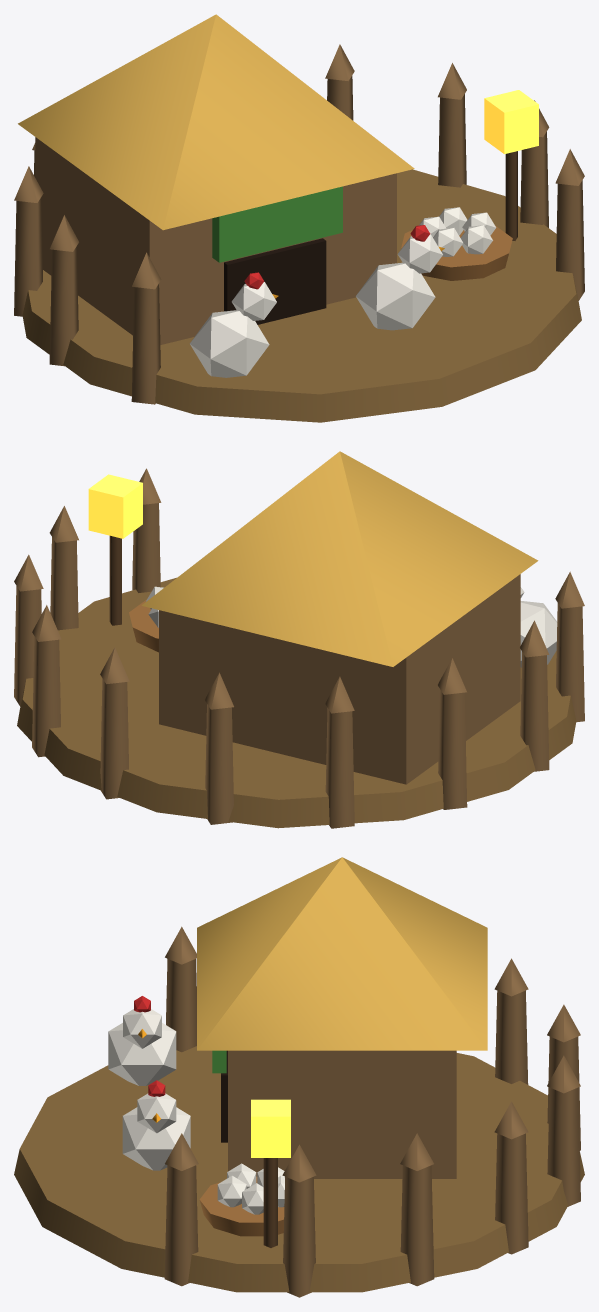
The model's file is level1.glb.
3 renders of one model, top to bottom at view 1: azimuth 30°, elevation 25°; view 2: azimuth 150°, elevation 25°; view 3: azimuth 270°, elevation 25°, orthographic.
Size of the model in its own units: 2.02 by 1.11 by 2.
